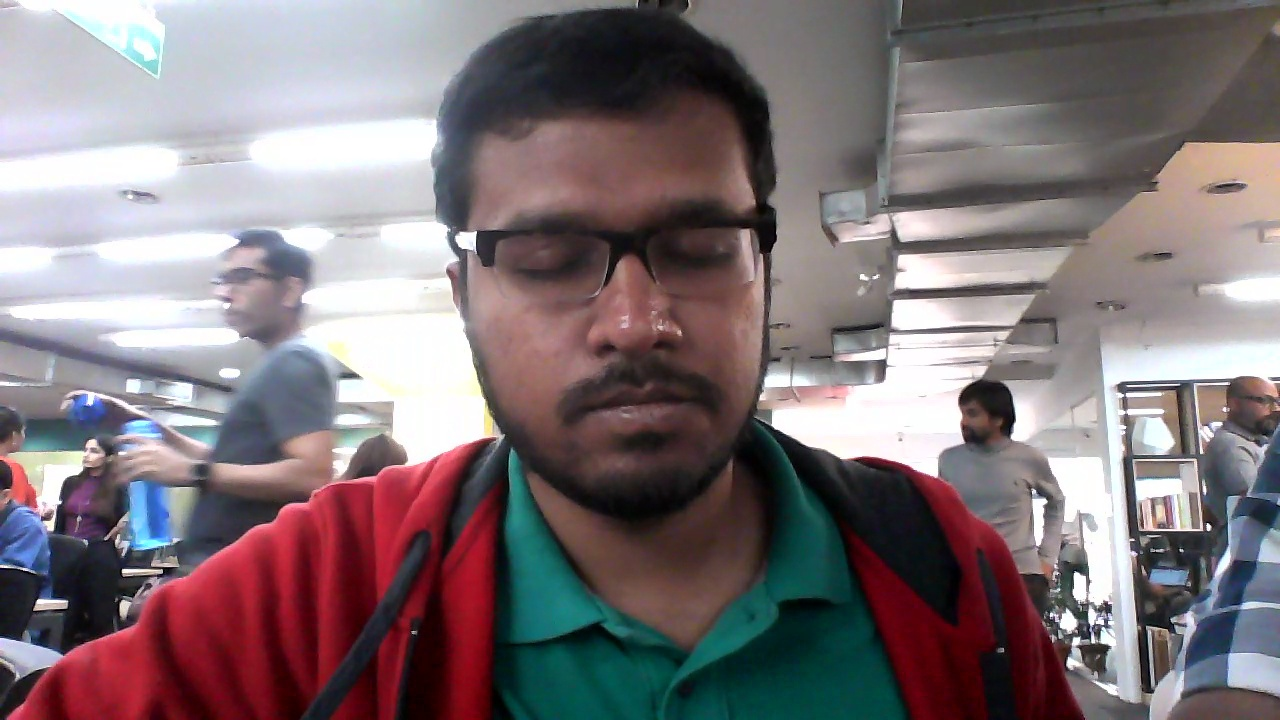closed: (432, 8, 786, 543)
